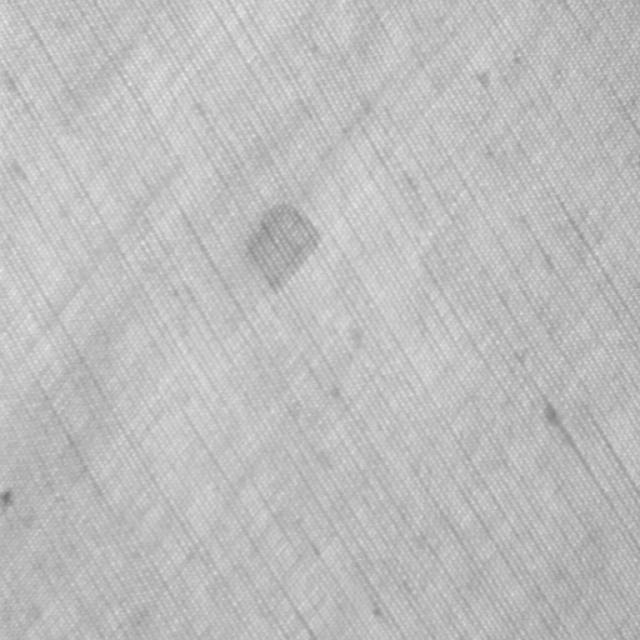oil spot: (242, 197, 322, 295)
